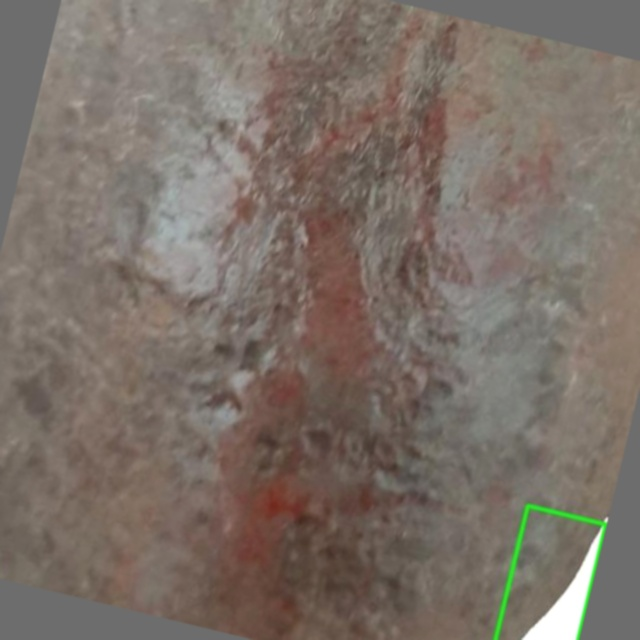Contact Dermatitis: (495, 505, 605, 639)
